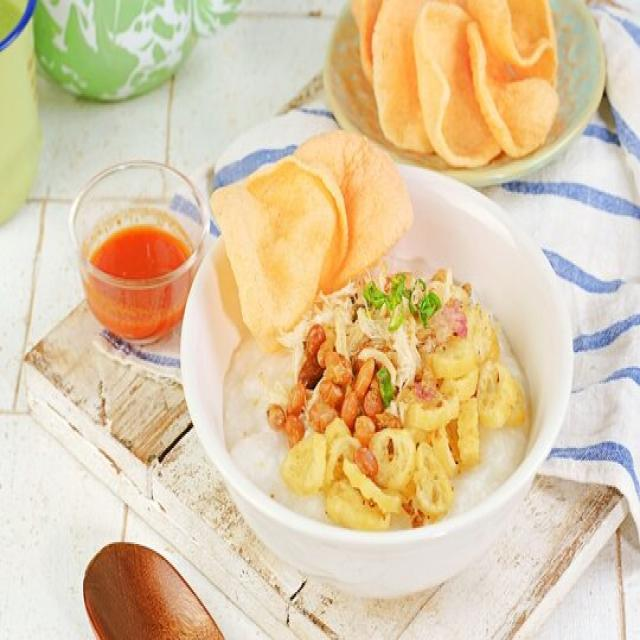bubur ayam: (224, 258, 530, 532)
mangkuk: (178, 145, 574, 600), (322, 1, 606, 184), (69, 158, 210, 343)
sambal: (91, 224, 192, 284)
